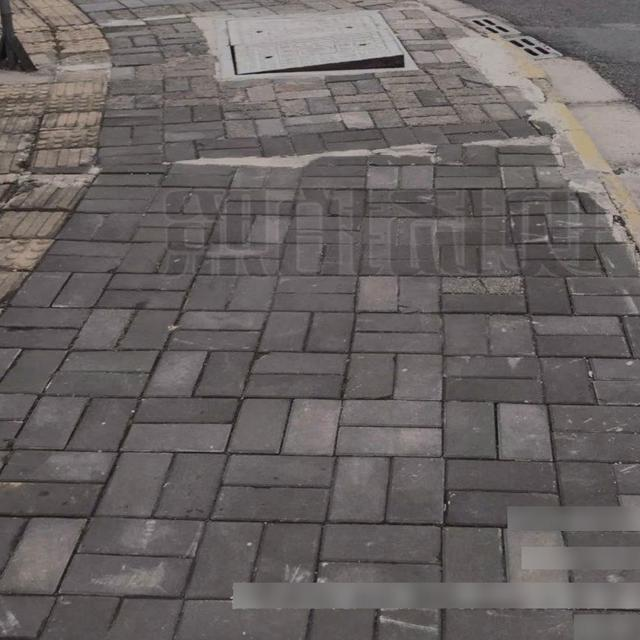uncovered: (210, 10, 424, 80)
